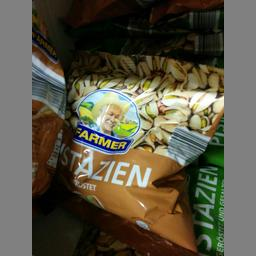nuts: (56, 48, 223, 255)
